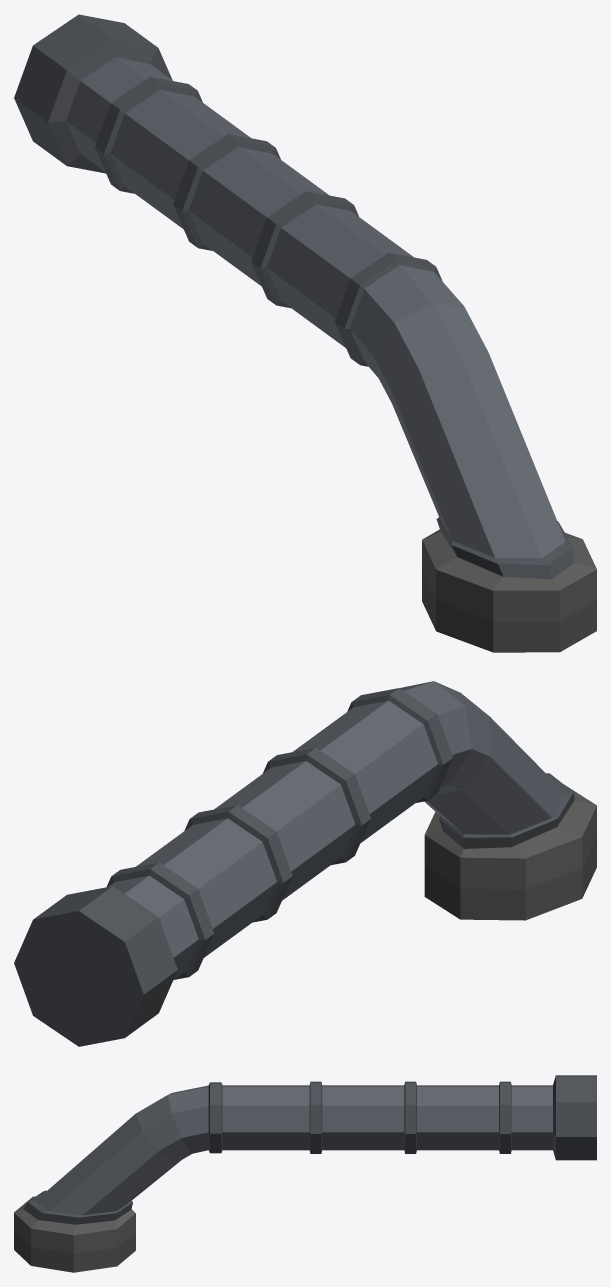
The model's file is SM_Bld_GasTower_Pipe_01.fbx.
3 renders of one model, top to bottom at view 1: azimuth 30°, elevation 25°; view 2: azimuth 150°, elevation 25°; view 3: azimuth 270°, elevation 25°, orthographic. The views are drawn at different scales.
Parts seen in each view (by area): view 1: SM_Bld_GasTower_Pipe_01; view 2: SM_Bld_GasTower_Pipe_01; view 3: SM_Bld_GasTower_Pipe_01.
Boxes of the visible parts, x1,y1,x2,y2 form: SM_Bld_GasTower_Pipe_01: [14, 14, 596, 652]; SM_Bld_GasTower_Pipe_01: [14, 681, 596, 1046]; SM_Bld_GasTower_Pipe_01: [14, 1075, 596, 1272].
Size of the model in its own units: 399 by 760 by 2299.
